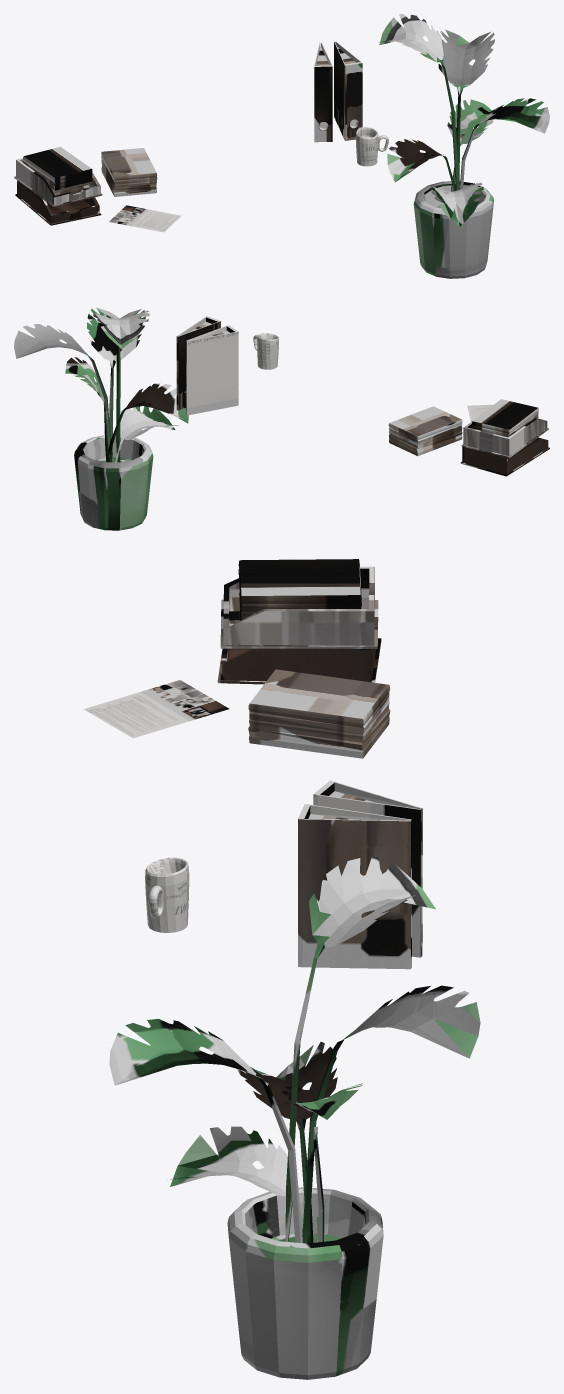
The model's file is decor.glb.
3 views of the same model, one above another, from view 1: azimuth 30°, elevation 25°; view 2: azimuth 150°, elevation 25°; view 3: azimuth 270°, elevation 25° (orthographic). The views are drawn at different scales.
Parts seen in each view (by area): view 1: plant, binder_2, paper_stack_1, paper_stack_2, binder_1, paper_holder_bottom, paper_holder_top, paper, coffee; view 2: plant, binder_1, paper_stack_1, paper_holder_top, paper_stack_2, paper_holder_bottom, binder_2, coffee; view 3: plant, binder_2, paper_stack_1, paper_holder_top, paper_stack_2, paper_holder_bottom, paper, binder_1, coffee.
Boxes of the visible parts, x1,y1,x2,y2 form: plant: [378, 14, 549, 278]; binder_2: [334, 41, 362, 140]; paper_stack_1: [101, 148, 157, 196]; paper_stack_2: [23, 147, 92, 195]; binder_1: [314, 42, 332, 142]; paper_holder_bottom: [15, 180, 101, 225]; paper_holder_top: [14, 158, 102, 207]; paper: [109, 205, 181, 232]; coffee: [355, 127, 388, 166]; plant: [14, 307, 188, 530]; binder_1: [186, 325, 238, 415]; paper_stack_1: [388, 406, 462, 456]; paper_holder_top: [461, 418, 548, 457]; paper_stack_2: [472, 399, 538, 437]; paper_holder_bottom: [460, 437, 549, 476]; binder_2: [176, 316, 220, 410]; coffee: [253, 333, 278, 369]; plant: [109, 857, 480, 1379]; binder_2: [298, 804, 411, 969]; paper_stack_1: [248, 669, 390, 758]; paper_holder_top: [220, 566, 378, 648]; paper_stack_2: [238, 559, 361, 620]; paper_holder_bottom: [217, 638, 381, 684]; paper: [83, 680, 229, 738]; binder_1: [313, 780, 422, 957]; coffee: [145, 857, 189, 932].
Bounding box in the file's own units: 9.07 × 4.09 × 3.24.
1 material, 1 textured.
